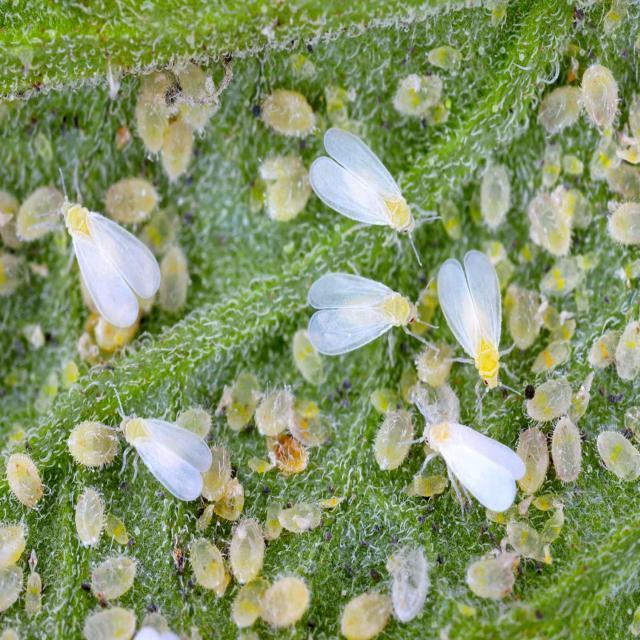Whiteflies: (52, 167, 173, 346), (294, 100, 417, 272), (425, 221, 532, 387), (296, 249, 432, 377), (394, 397, 539, 516), (103, 390, 235, 503)
